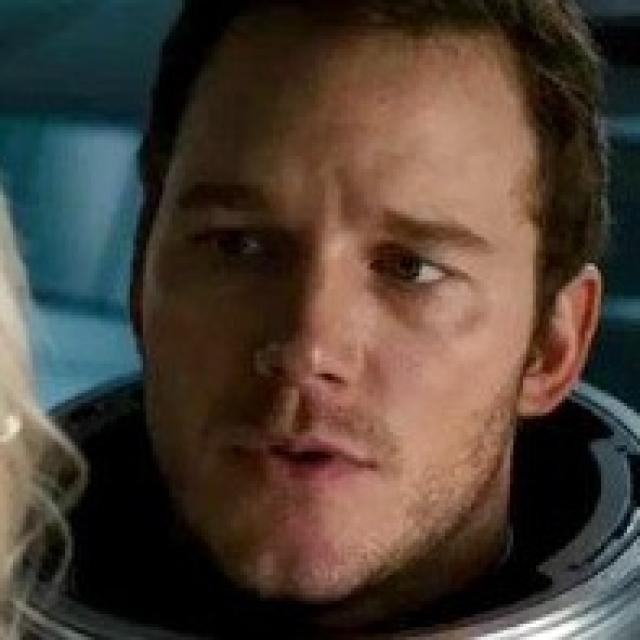Depress: (133, 18, 541, 614)
